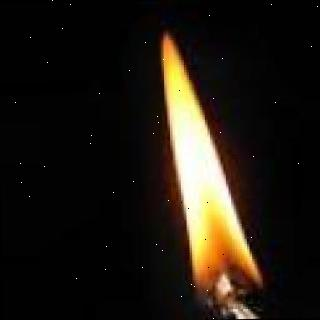fire: (160, 33, 260, 305)
